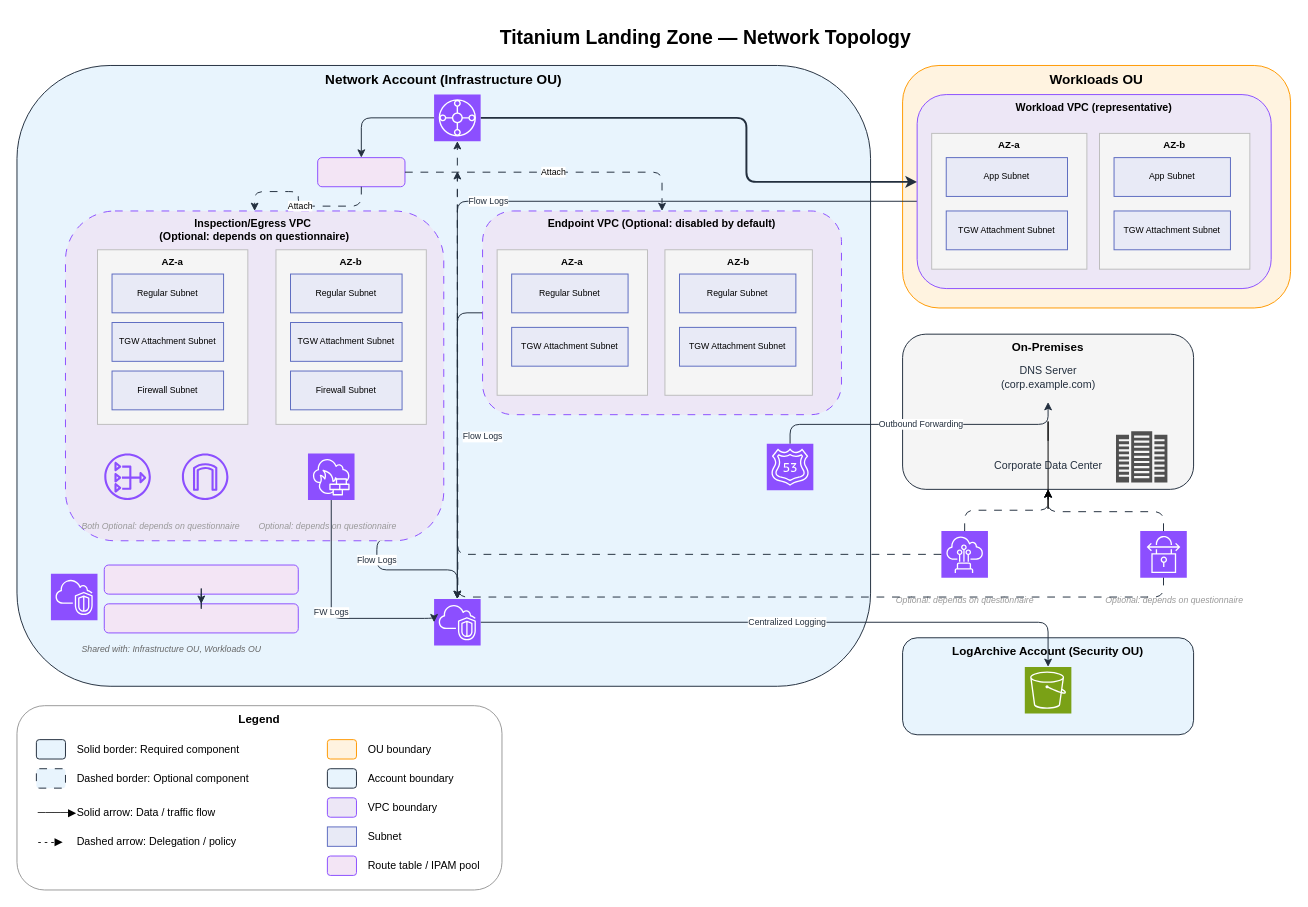
Some shapes in this 1308 by 907 pixel diagram are drawn without their labels. Each missing label, with the centre of its shape:
Core RT: the point at 361,172
Direct Connect: the point at 964,554
Global Pool: 10.218.0.0/18: the point at 200,579
Internet Gateway: the point at 204,476
IPAM: the point at 73,596
NAT Gateway: the point at 127,476
Network Firewall: the point at 331,476
Regional Pool: 10.218.0.0/19: the point at 200,618
Route 53 VPC Resolver Profile, Inbound/Outbound Resolvers: the point at 789,466
S3 Log Bucket: the point at 1047,689
Transit Gateway: the point at 457,117
VPC/FW Flow Logs: the point at 457,622
VPN: the point at 1163,554
